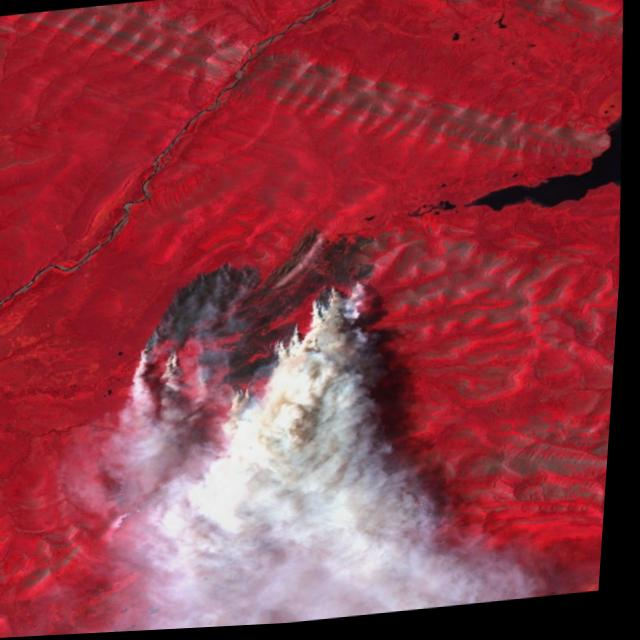fire: (131, 231, 394, 440)
